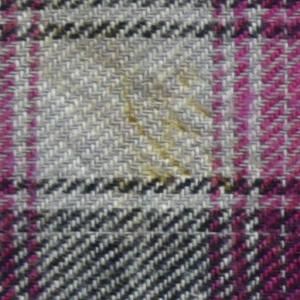Oil Stain: (40, 19, 247, 219)
